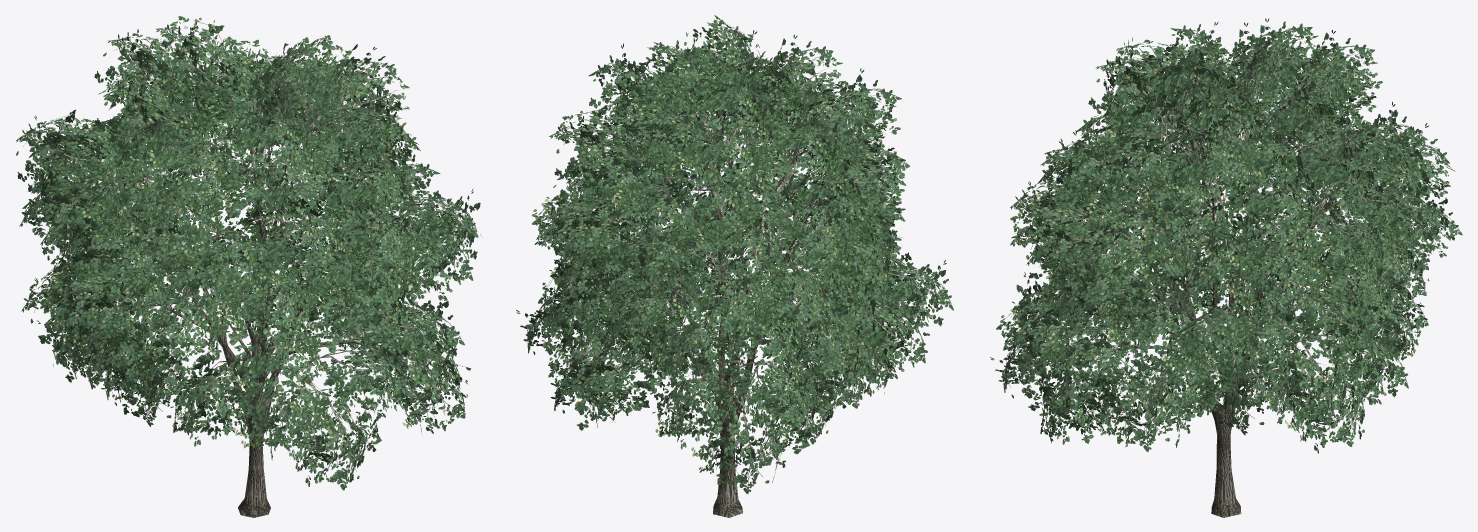
The model's file is tree.gltf.
3 views of the same model, side by side, from view 1: azimuth 30°, elevation 25°; view 2: azimuth 150°, elevation 25°; view 3: azimuth 270°, elevation 25° (orthographic).
Visible parts, largest first — view 1: 榕树10; view 2: 榕树10; view 3: 榕树10.
Part boxes in pixels (x1=…): 榕树10: x1=16, y1=16, x2=481, y2=517; 榕树10: x1=516, y1=15, x2=953, y2=517; 榕树10: x1=990, y1=18, x2=1462, y2=517.
Size of the model in its own units: 7.99 by 9.41 by 8.56.
Materials: 2 (2 with a texture image).
